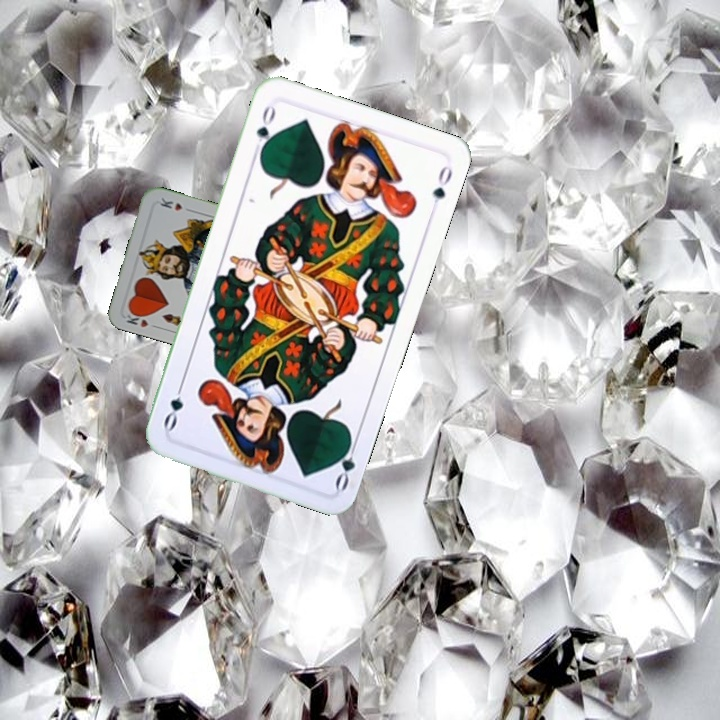GO: (330, 433, 361, 493), (252, 101, 278, 158)
HK: (121, 307, 151, 330)
